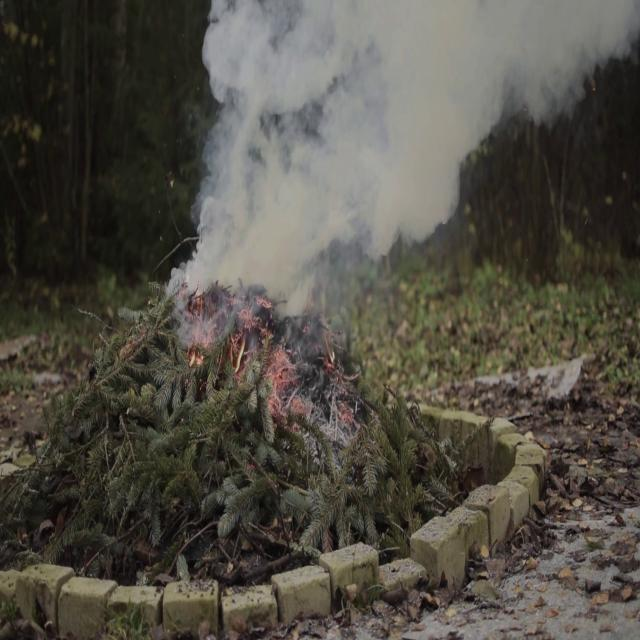Smoke: (181, 0, 604, 291)
